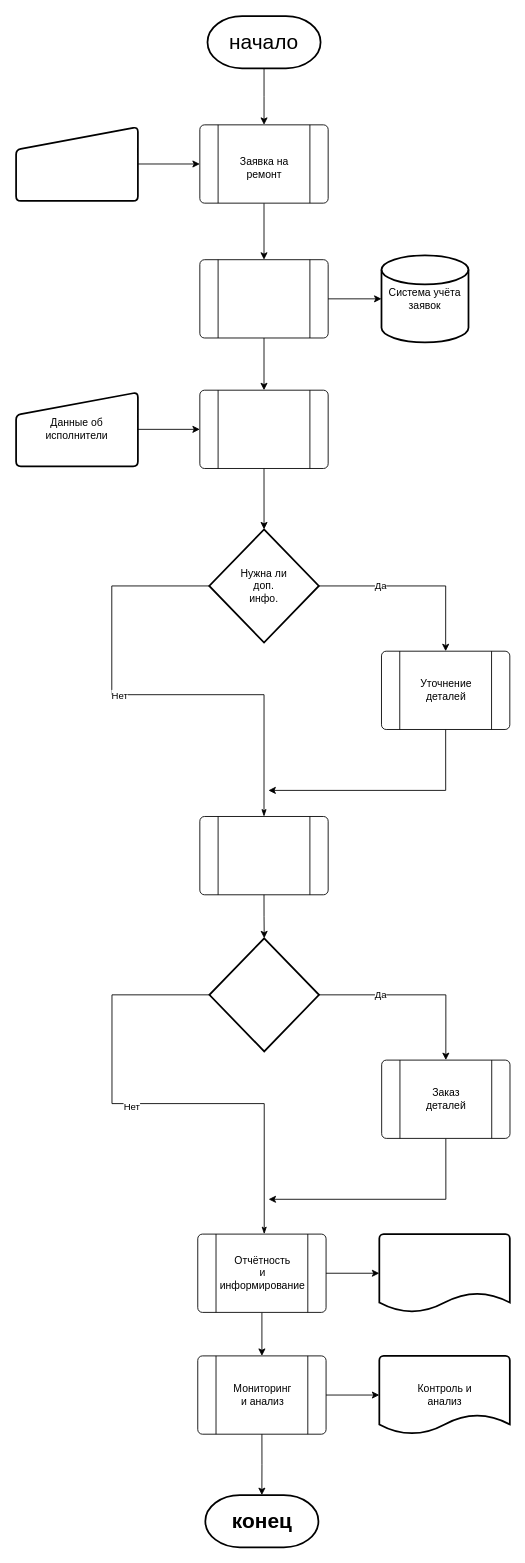
The diagram is 525 pixels wide and 1563 high, and some of its shapes have lost their labels. The shapes that lost their labels are listed below. From the top down, each one's centre as x and y in pixels, then its label:
point (76, 163): Неисправность оборудования
point (263, 298): Регистрация заявки
point (263, 428): Обработка заявки
point (263, 855): Исполнение заявки
point (263, 994): Нужны ли доп. запчасти
point (444, 1273): Отчёт о проделанной работе
